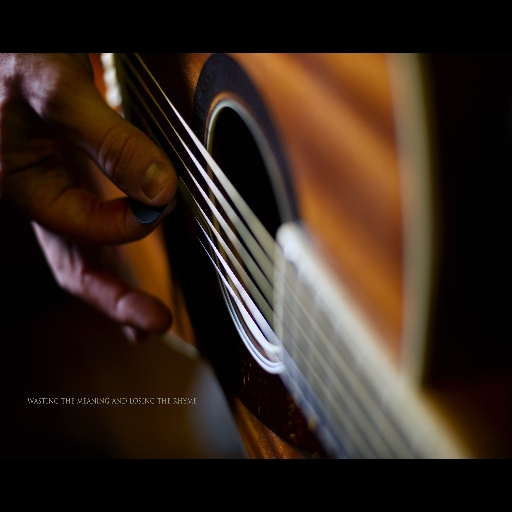hand: (0, 35, 179, 346)
